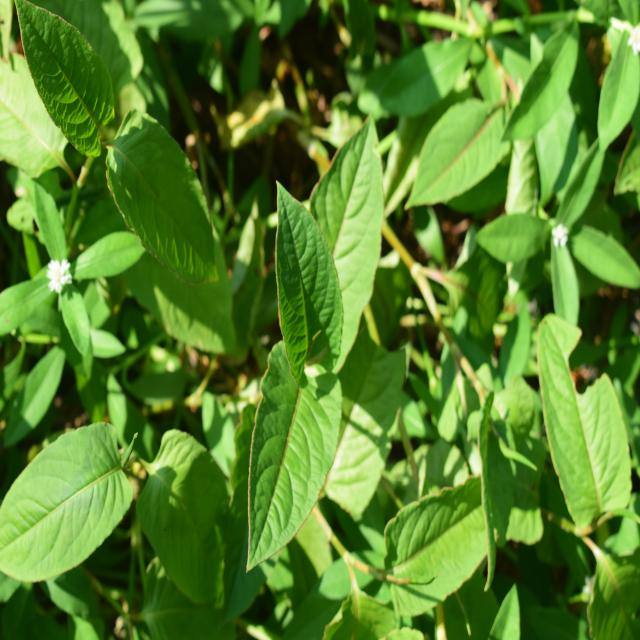Chinese_knotweed: (234, 163, 423, 592), (14, 41, 243, 290)
